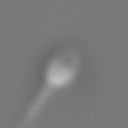normal: (11, 85, 51, 128)
